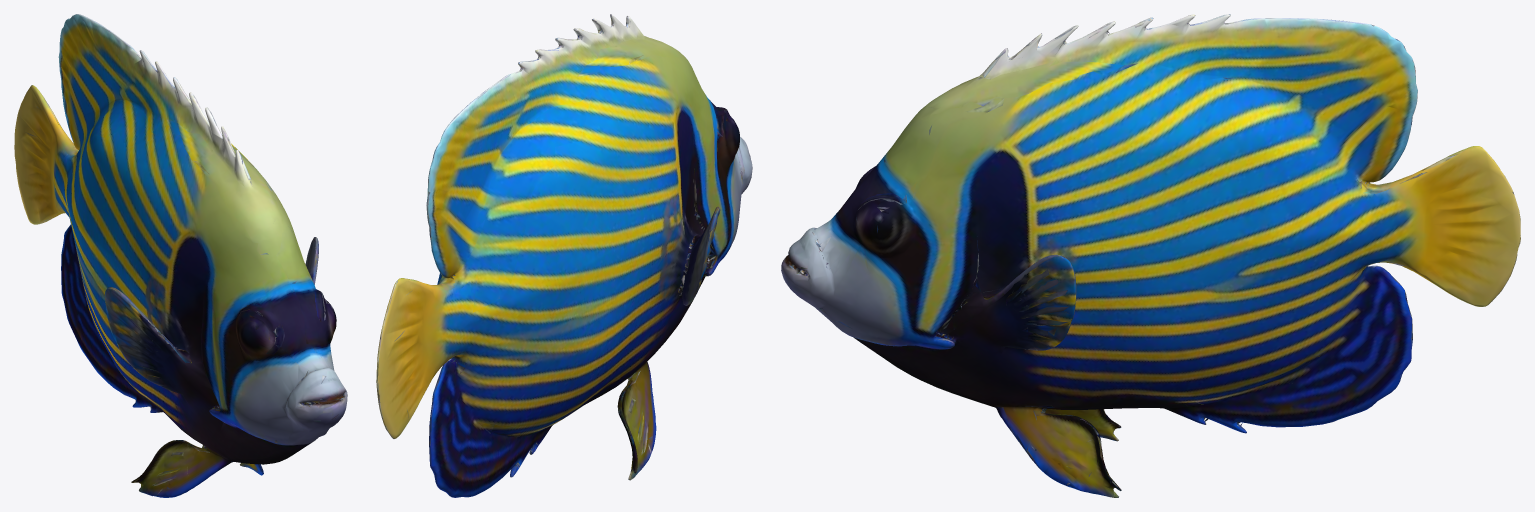
Rendered from fish_emperor_angelfish.glb.
The picture shows the model from 3 angles, left to right: view 1: azimuth 30°, elevation 25°; view 2: azimuth 150°, elevation 25°; view 3: azimuth 270°, elevation 25°; orthographic projection. The views are drawn at different scales.
Visible parts, largest first — view 1: Mesh_0; view 2: Mesh_0; view 3: Mesh_0.
Part boxes in pixels (x1=…): Mesh_0: x1=14, y1=14, x2=347, y2=497; Mesh_0: x1=376, y1=14, x2=752, y2=497; Mesh_0: x1=781, y1=14, x2=1520, y2=497.
Size of the model in its own units: 0.7204 by 1.3 by 1.91.
Materials: 1 (1 with a texture image).
